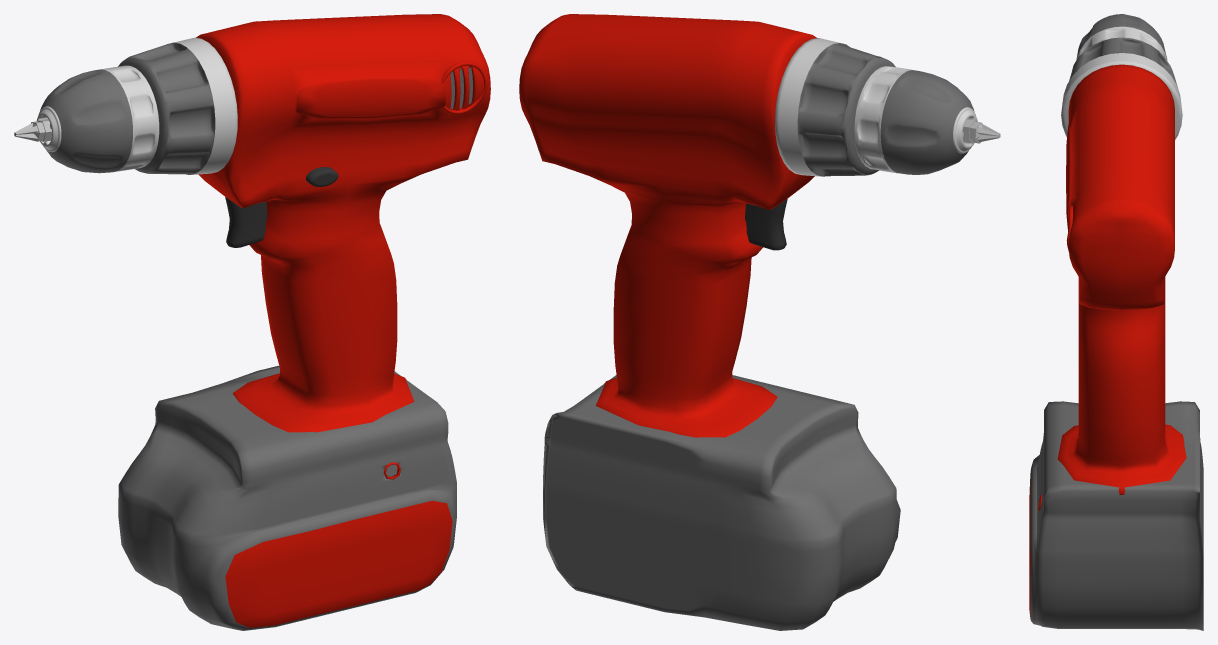
File: LOWPOLYDRILL_Rigged.fbx
3 renders of one model, left to right at view 1: azimuth 30°, elevation 25°; view 2: azimuth 150°, elevation 25°; view 3: azimuth 270°, elevation 25°, orthographic. The views are drawn at different scales.
Visible parts, largest first — view 1: Drill, Spin, Trigger; view 2: Drill, Spin, Trigger; view 3: Drill, Spin.
Boxes of the visible parts, x1,y1,x2,y2 form: Drill: (118,14,490,630); Spin: (37,65,159,173); Trigger: (225,197,267,247); Drill: (519,14,900,630); Spin: (854,66,977,174); Trigger: (745,199,787,250); Drill: (1029,37,1203,630); Spin: (1076,14,1167,60).
Bounding box in the file's own units: 427 × 501 × 161.
